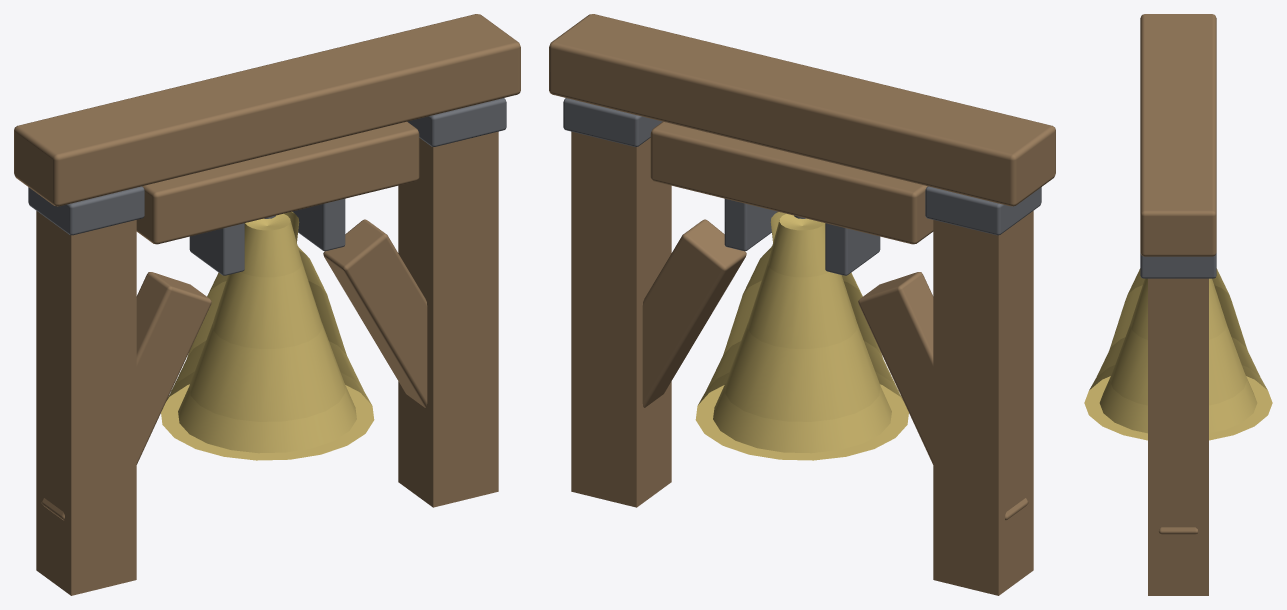
Rendered from hung-bell.glb.
3 views of the same model, side by side, from view 1: azimuth 30°, elevation 25°; view 2: azimuth 150°, elevation 25°; view 3: azimuth 270°, elevation 25° (orthographic). The views are drawn at different scales.
Parts seen in each view (by area): view 1: hung-bell, bell/brass, bell/oak, bell/iron; view 2: hung-bell, bell/brass, bell/oak, bell/iron; view 3: hung-bell, bell/brass.
Boxes of the visible parts, x1,y1,x2,y2 form: hung-bell: (14, 14, 520, 595); bell/brass: (161, 211, 374, 460); bell/oak: (136, 121, 419, 244); bell/iron: (189, 198, 345, 275); hung-bell: (549, 14, 1055, 595); bell/brass: (695, 211, 908, 460); bell/oak: (650, 121, 933, 244); bell/iron: (724, 198, 880, 275); hung-bell: (1140, 14, 1216, 595); bell/brass: (1084, 268, 1272, 440).
Size of the model in its own units: 1.86 by 1.7 by 0.74.
